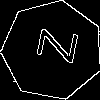Z: (27, 25, 78, 64)
